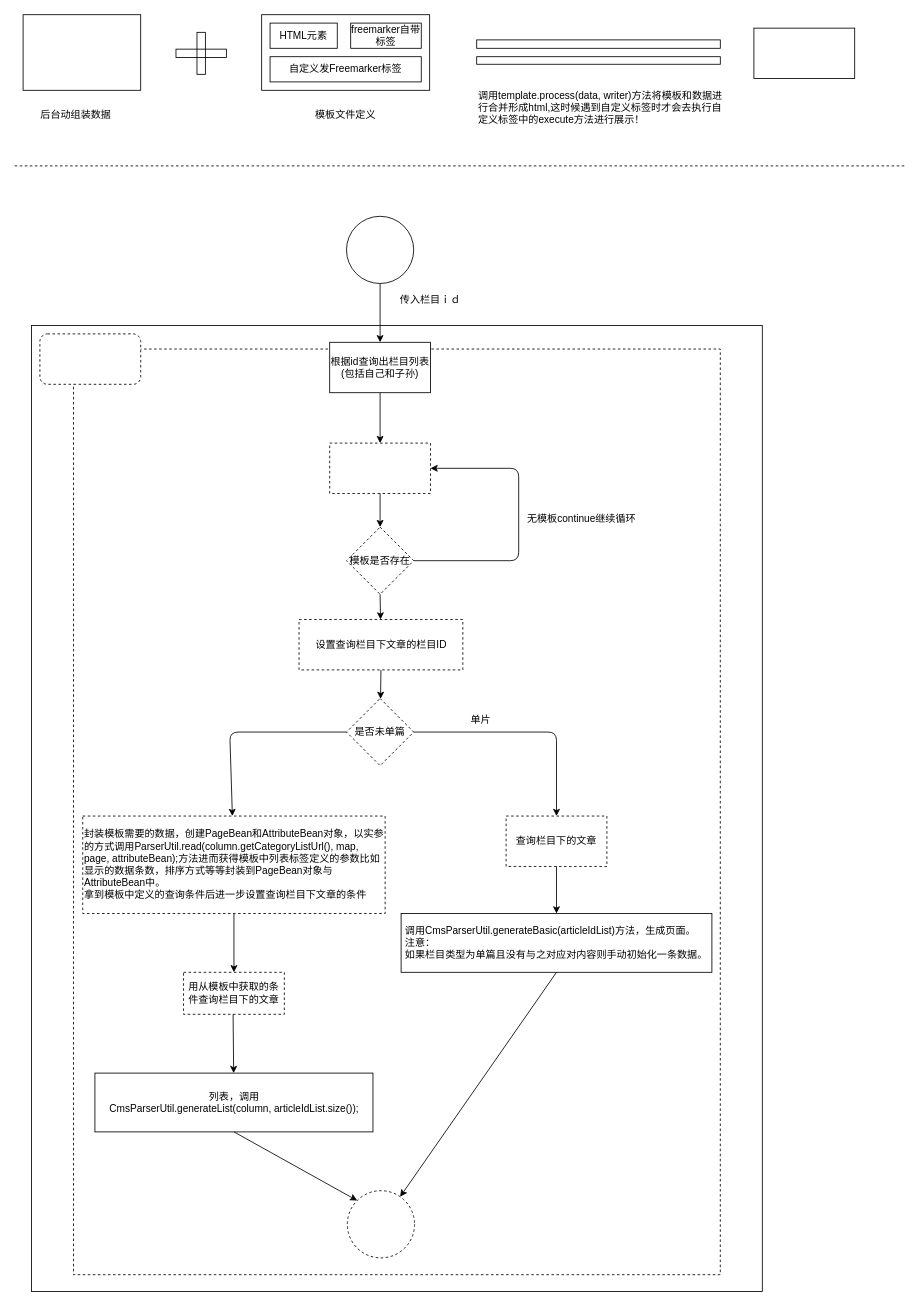
This 921x1306 diagram has some shape labels left out. Here are the shapes that lost their labels. From the top down, the centre of each, then its label:
At point (81, 52): "需要展示的数据".
At point (804, 53): "展示出来的静态页面".
At point (380, 249): "生成栏目按钮".
At point (90, 358): "genernateColumn 方法".
At point (379, 468): "遍历栏目列表".
At point (380, 1224): "生成完成".
